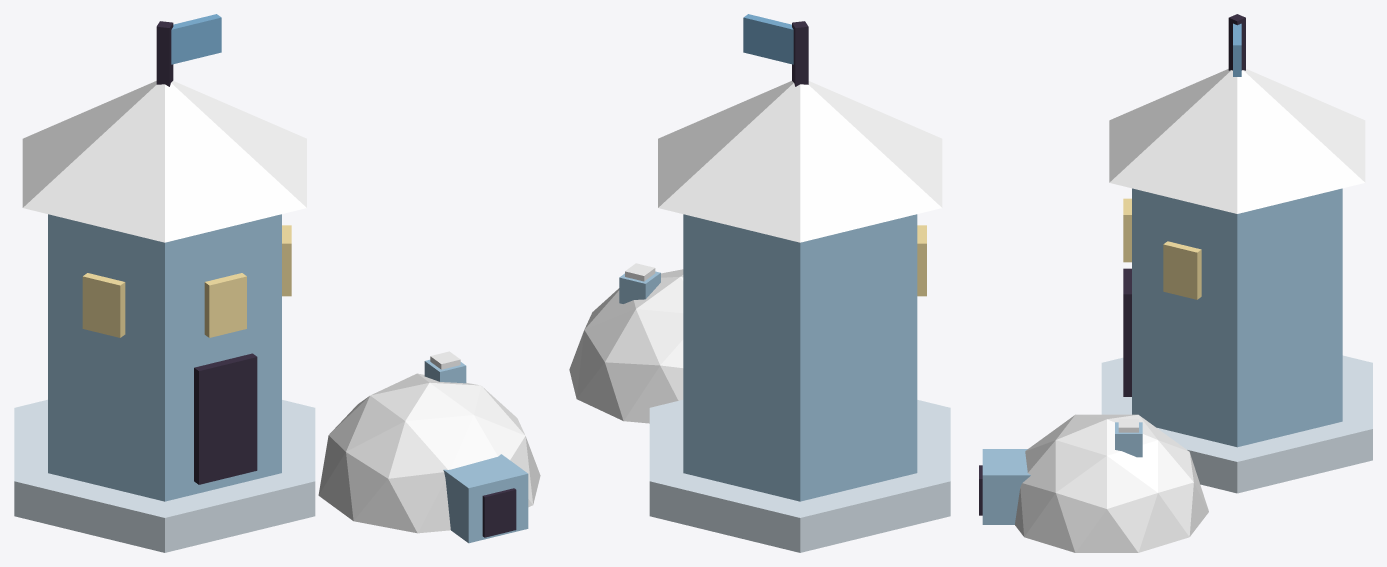
File: ice-landmark-s2b.glb
The picture shows the model from 3 angles, left to right: view 1: azimuth 30°, elevation 25°; view 2: azimuth 150°, elevation 25°; view 3: azimuth 270°, elevation 25°; orthographic projection. The views are drawn at different scales.
Visible parts, largest first — view 1: ice-landmark-s2b; view 2: ice-landmark-s2b; view 3: ice-landmark-s2b.
Boxes of the visible parts, box(x1,y1,x2,y2) form: ice-landmark-s2b: box(14, 14, 540, 552); ice-landmark-s2b: box(569, 14, 950, 552); ice-landmark-s2b: box(979, 14, 1372, 552).
Bounding box in the file's own units: 1.04 × 1.04 × 0.9058.
